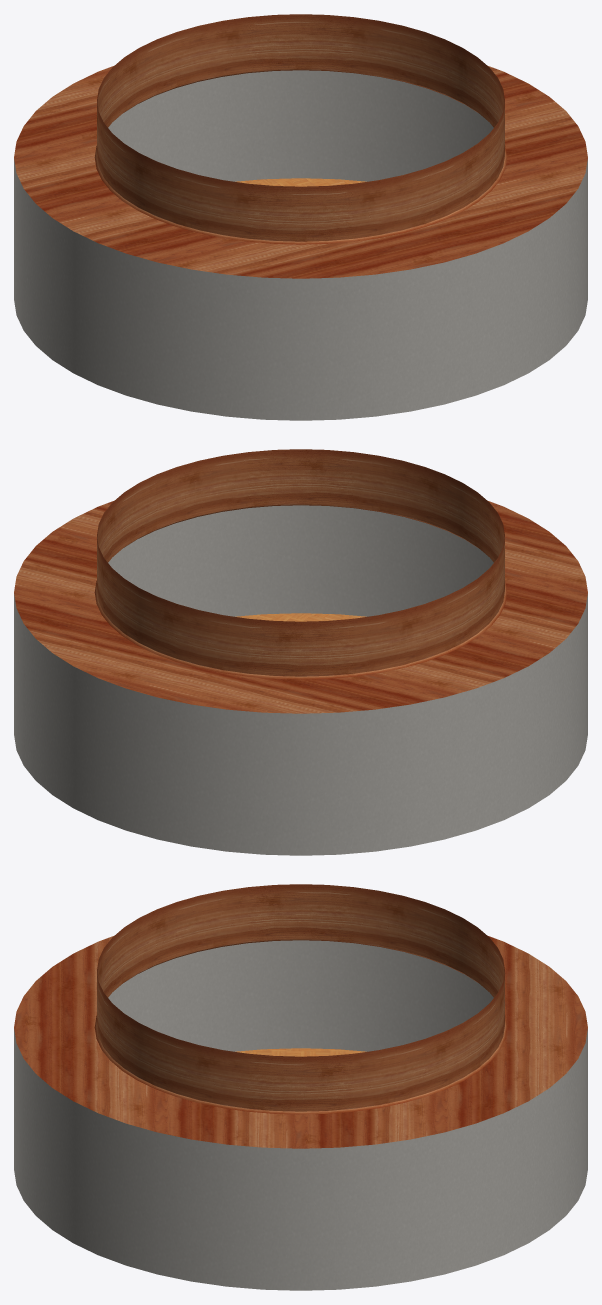
Rendered from specular_lightmap.fbx.
The picture shows the model from 3 angles, top to bottom: view 1: azimuth 30°, elevation 25°; view 2: azimuth 150°, elevation 25°; view 3: azimuth 270°, elevation 25°; orthographic projection.
Parts seen in each view (by area): view 1: Walls, Ceiling1, Floor; view 2: Walls, Ceiling1, Floor; view 3: Walls, Ceiling1, Floor.
Boxes of the visible parts, x1,y1,x2,y2 form: Walls: (14, 70, 587, 420); Ceiling1: (14, 14, 587, 278); Floor: (235, 178, 366, 186); Walls: (14, 505, 587, 855); Ceiling1: (14, 449, 587, 713); Floor: (235, 613, 366, 621); Walls: (14, 940, 587, 1290); Ceiling1: (14, 884, 587, 1148); Floor: (235, 1048, 366, 1056).
Size of the model in its own units: 1596 by 611 by 1596.
